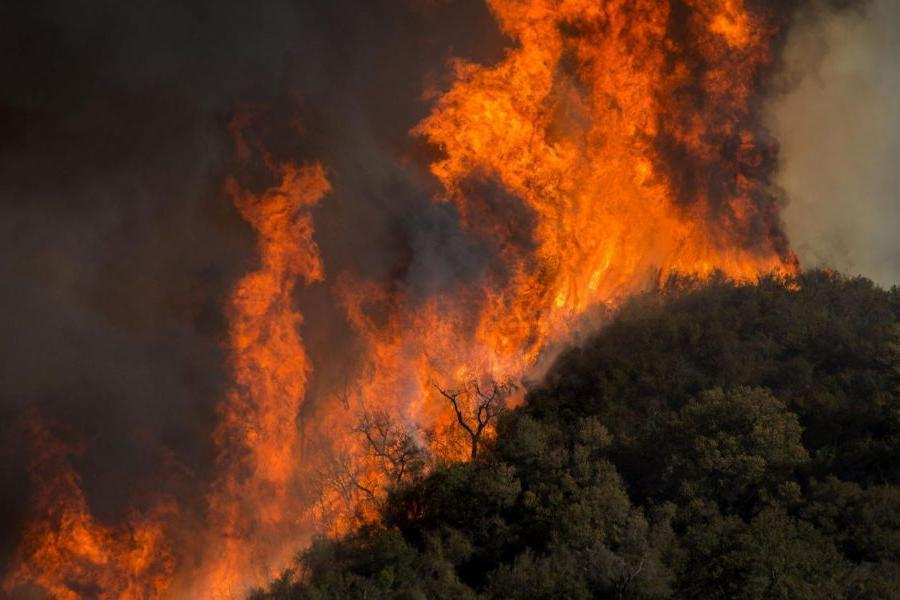Fire: (10, 17, 799, 595)
